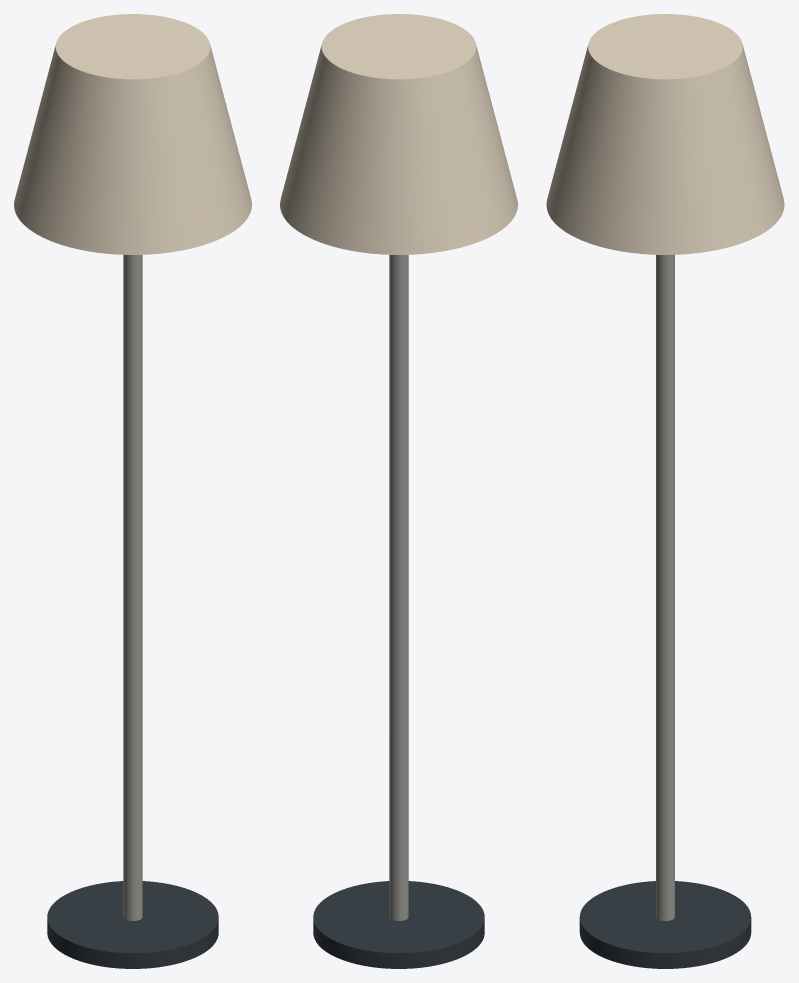
Rendered from floor_lamp.glb.
3 renders of one model, left to right at view 1: azimuth 30°, elevation 25°; view 2: azimuth 150°, elevation 25°; view 3: azimuth 270°, elevation 25°, orthographic.
Visible parts, largest first — view 1: Linen shade, Stem, Foot; view 2: Linen shade, Stem, Foot; view 3: Linen shade, Stem, Foot.
Boxes of the visible parts, left/top/right/bottom form: Linen shade: left=14, top=14, right=251, bottom=254; Stem: left=123, top=254, right=142, bottom=920; Foot: left=47, top=881, right=218, bottom=968; Linen shade: left=280, top=14, right=517, bottom=254; Stem: left=389, top=254, right=408, bottom=920; Foot: left=313, top=881, right=484, bottom=968; Linen shade: left=546, top=14, right=784, bottom=254; Stem: left=656, top=255, right=674, bottom=920; Foot: left=579, top=881, right=751, bottom=968.
Bounding box in the file's own units: 0.396 × 1.63 × 0.396.
